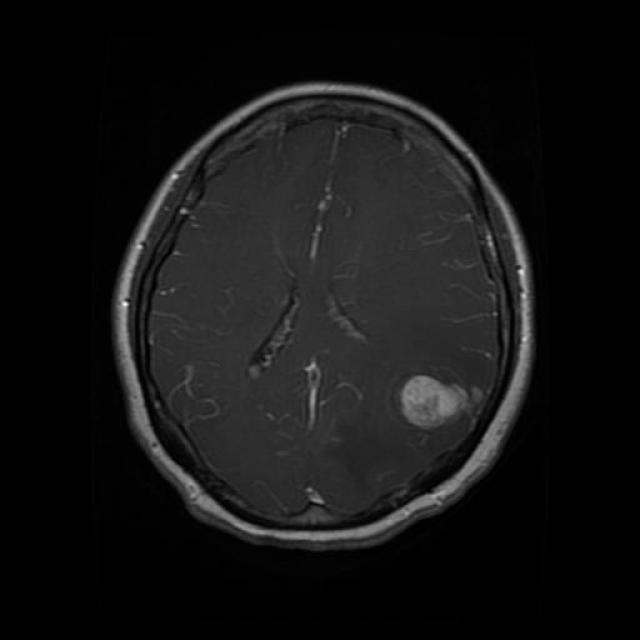glioma: (369, 352, 458, 446)
